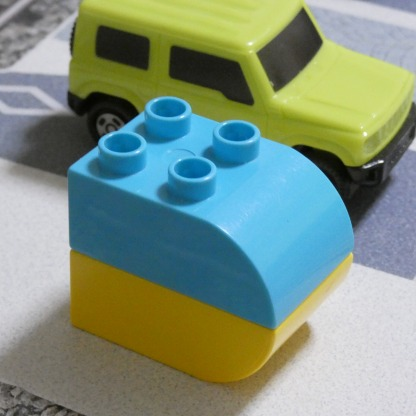car: (65, 0, 416, 208)
